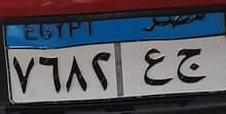2: (92, 52, 112, 89)
6: (39, 54, 63, 92)
7: (12, 55, 35, 94)
8: (67, 52, 87, 93)
ain: (145, 45, 170, 86)
jeem: (176, 43, 204, 85)
